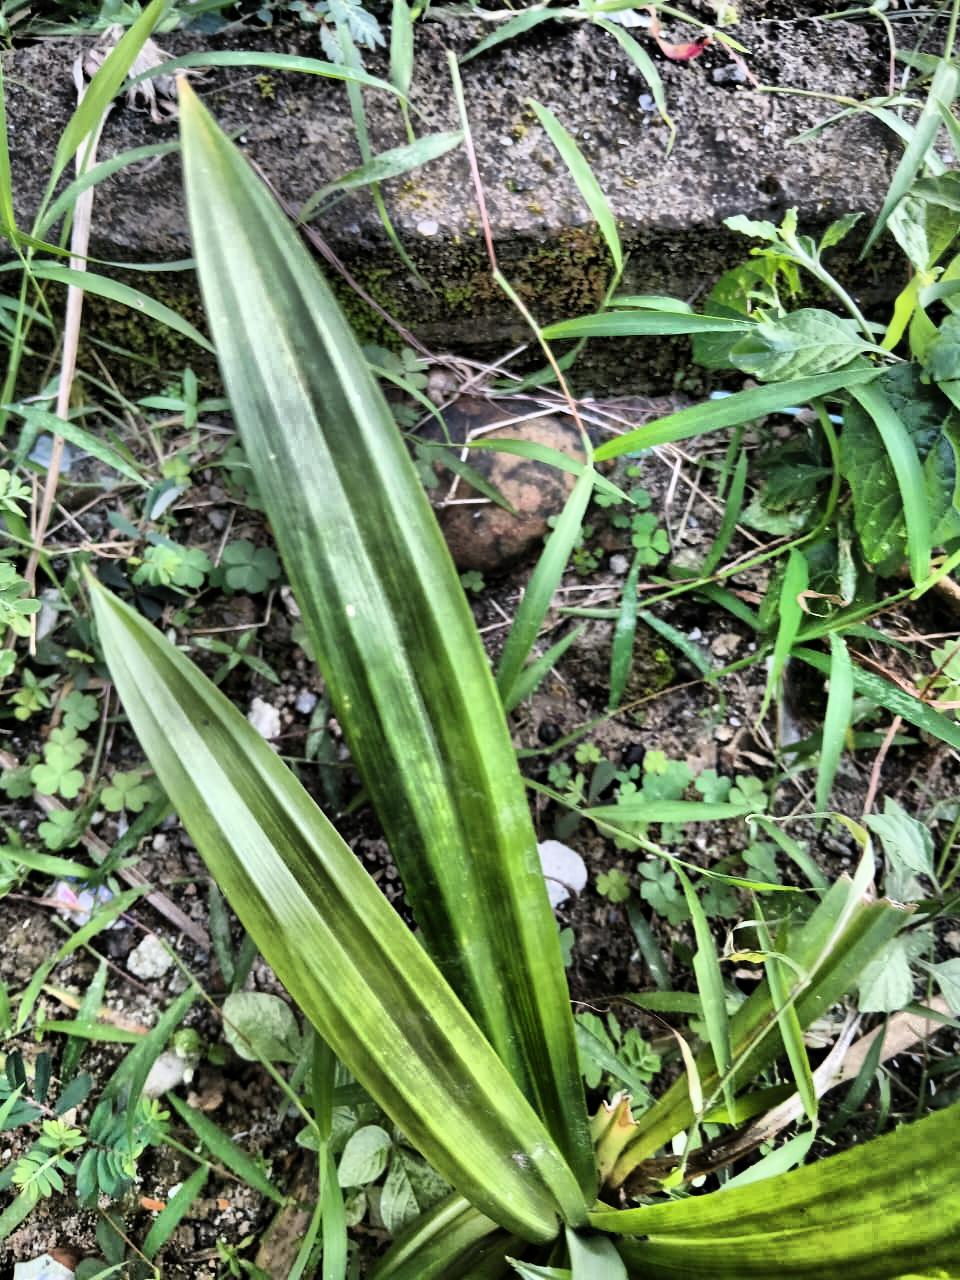daun pandan: (89, 78, 959, 1279)
